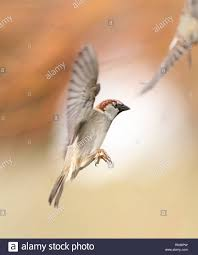hsparrow: (47, 46, 131, 208)
